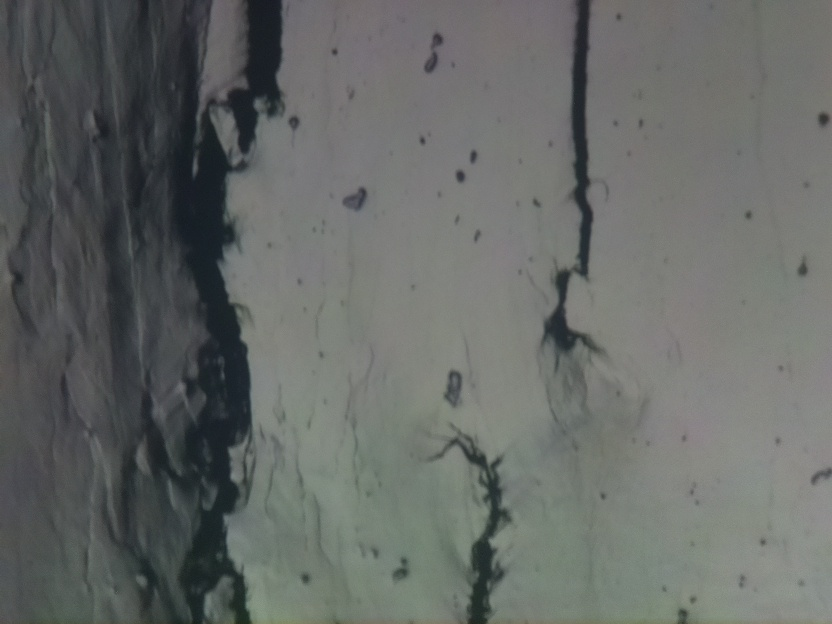crack: (182, 0, 282, 624), (432, 420, 512, 624), (553, 0, 594, 353)
